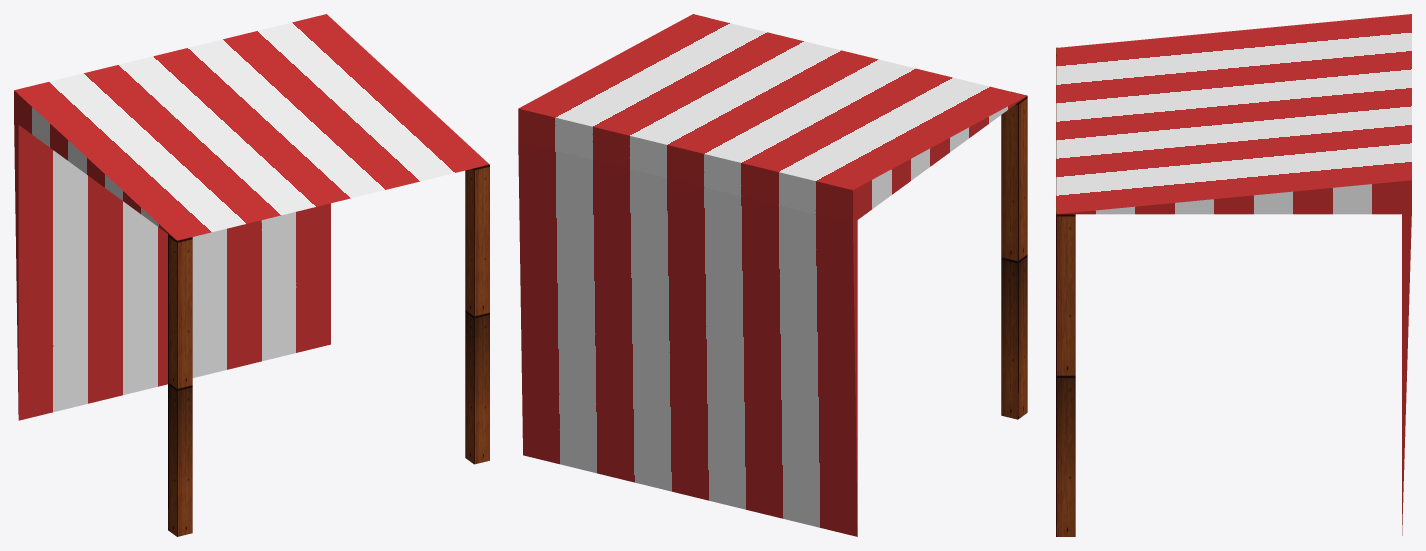
Rendered from marketstall1.obj.
3 renders of one model, left to right at view 1: azimuth 30°, elevation 25°; view 2: azimuth 150°, elevation 25°; view 3: azimuth 270°, elevation 25°, orthographic. The views are drawn at different scales.
Parts seen in each view (by area): view 1: Object.1, Object.2, Object.3; view 2: Object.1, Object.2; view 3: Object.1, Object.3.
Part boxes in pixels (x1=…): Object.1: x1=14, y1=14, x2=488, y2=420; Object.2: x1=168, y1=234, x2=192, y2=536; Object.3: x1=465, y1=164, x2=489, y2=464; Object.1: x1=518, y1=14, x2=1026, y2=536; Object.2: x1=1001, y1=91, x2=1027, y2=419; Object.1: x1=1056, y1=14, x2=1411, y2=535; Object.3: x1=1056, y1=206, x2=1075, y2=536.
Bounding box in the file's own units: 2 × 2 × 1.81.
